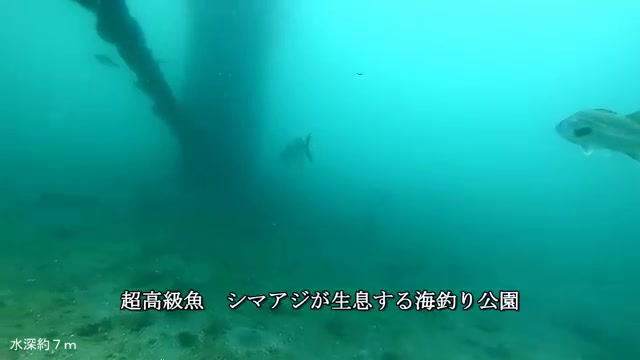suzuki: (553, 100, 637, 165)
